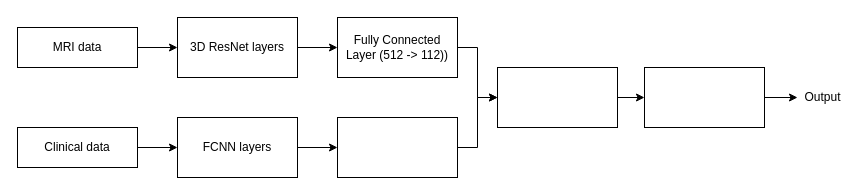
Some shapes in this 865 by 195 pixel diagram are drawn without their labels. The box of each missing label's shape, as (x1, y1, x2, y2) in pixels:
Concatenate (224): (496, 66, 618, 128)
Fully Connected Layer (224 -> 10): (644, 66, 764, 128)
Fully Connected Layer (56 -> 112): (336, 116, 458, 178)
